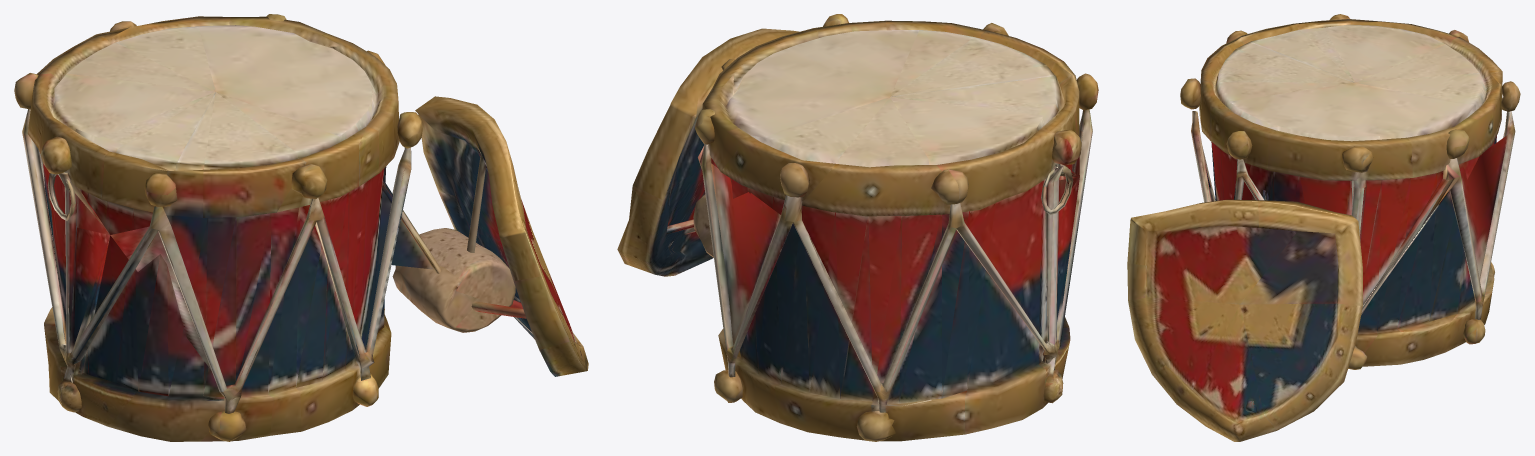
The model's file is prop_toy_drum.glb.
3 views of the same model, side by side, from view 1: azimuth 30°, elevation 25°; view 2: azimuth 150°, elevation 25°; view 3: azimuth 270°, elevation 25° (orthographic). The views are drawn at different scales.
Bounding box in the file's own units: 0.2983 × 0.1748 × 0.2569.
Materials: 1 (1 with a texture image).
